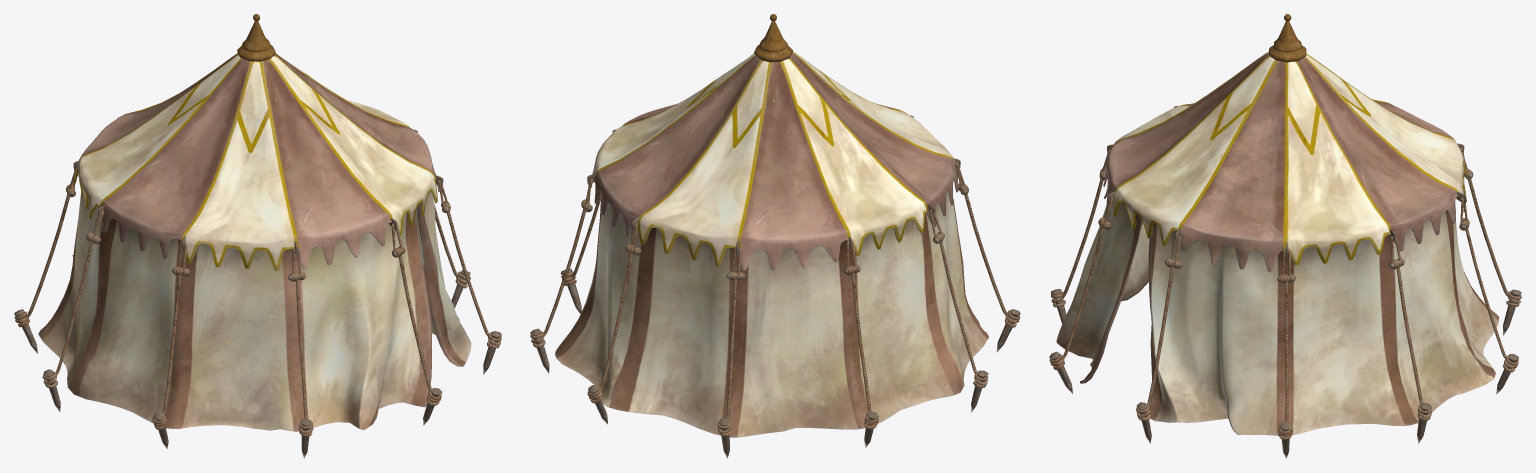
3 renders of one model, left to right at view 1: azimuth 30°, elevation 25°; view 2: azimuth 150°, elevation 25°; view 3: azimuth 270°, elevation 25°, orthographic.
Parts seen in each view (by area): view 1: SM_Narrative_Tent_Doric_v1_LOD0; view 2: SM_Narrative_Tent_Doric_v1_LOD0; view 3: SM_Narrative_Tent_Doric_v1_LOD0.
Part boxes in pixels (left/top/right/bottom): SM_Narrative_Tent_Doric_v1_LOD0: left=14, top=14, right=501, bottom=458; SM_Narrative_Tent_Doric_v1_LOD0: left=530, top=14, right=1020, bottom=458; SM_Narrative_Tent_Doric_v1_LOD0: left=1049, top=14, right=1521, bottom=458.
Size of the model in its own units: 6.32 by 4.97 by 6.04.
4 materials, 4 textured.
